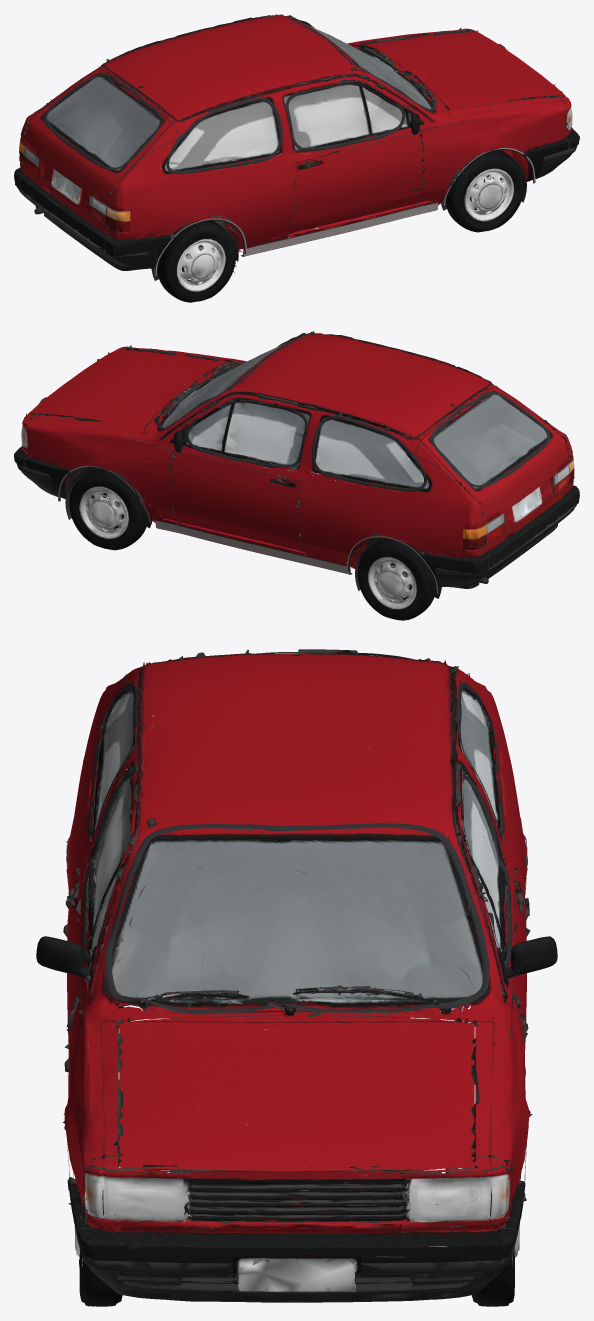
The model's file is hatch-quadrado-v2.glb.
3 views of the same model, one above another, from view 1: azimuth 30°, elevation 25°; view 2: azimuth 150°, elevation 25°; view 3: azimuth 270°, elevation 25° (orthographic). The views are drawn at different scales.
Parts seen in each view (by area): view 1: body, door_fr, fender_front_right, hood, trunk, glass_rear, glass_door_fr, glass_door_rr, wheel_rr_tire, wheel_fr_tire, wheel_fr_rim, wheel_rr_rim (+7 smaller); view 2: body, door_fl, fender_front_left, hood, trunk, glass_rear, glass_door_fl, glass_door_rl, wheel_rl_tire, wheel_fl_tire, glass_windshield, wheel_fl_rim (+7 smaller); view 3: body, glass_windshield, hood, bumper_front, fender_front_left, fender_front_right, headlight_right, headlight_left, plate_front, glass_door_fl, glass_door_fr, glass_door_rr (+9 smaller).
Boxes of the visible parts, x1=… form: body: x1=14, y1=14, x2=579, y2=280; door_fr: x1=285, y1=81, x2=424, y2=237; fender_front_right: x1=416, y1=95, x2=568, y2=206; hood: x1=365, y1=32, x2=565, y2=110; trunk: x1=20, y1=66, x2=177, y2=252; glass_rear: x1=41, y1=72, x2=168, y2=172; glass_door_fr: x1=283, y1=80, x2=409, y2=152; glass_door_rr: x1=162, y1=95, x2=282, y2=174; wheel_rr_tire: x1=157, y1=221, x2=235, y2=302; wheel_fr_tire: x1=445, y1=151, x2=524, y2=232; wheel_fr_rim: x1=464, y1=166, x2=513, y2=220; wheel_rr_rim: x1=176, y1=237, x2=225, y2=291; body: x1=14, y1=331, x2=579, y2=598; door_fl: x1=171, y1=399, x2=307, y2=555; fender_front_left: x1=25, y1=413, x2=177, y2=524; hood: x1=28, y1=350, x2=227, y2=428; trunk: x1=416, y1=386, x2=575, y2=569; glass_rear: x1=428, y1=388, x2=552, y2=490; glass_door_fl: x1=183, y1=399, x2=310, y2=471; glass_door_rl: x1=311, y1=415, x2=430, y2=491; wheel_rl_tire: x1=357, y1=539, x2=435, y2=620; wheel_fl_tire: x1=69, y1=469, x2=148, y2=550; glass_windshield: x1=155, y1=333, x2=308, y2=430; wheel_fl_rim: x1=79, y1=485, x2=128, y2=538; body: x1=63, y1=652, x2=530, y2=1289; glass_windshield: x1=103, y1=824, x2=491, y2=1017; hood: x1=119, y1=1007, x2=474, y2=1172; bumper_front: x1=75, y1=1224, x2=519, y2=1302; fender_front_left: x1=445, y1=997, x2=532, y2=1266; fender_front_right: x1=63, y1=992, x2=142, y2=1266; headlight_right: x1=83, y1=1166, x2=192, y2=1226; headlight_left: x1=400, y1=1166, x2=510, y2=1227; plate_front: x1=232, y1=1257, x2=360, y2=1291; glass_door_fl: x1=461, y1=763, x2=507, y2=961; glass_door_fr: x1=85, y1=761, x2=132, y2=965; glass_door_rr: x1=91, y1=689, x2=137, y2=841.
Bounding box in the file's own units: 3.82 × 1.43 × 1.83.
Materials: 7 (5 with a texture image).
